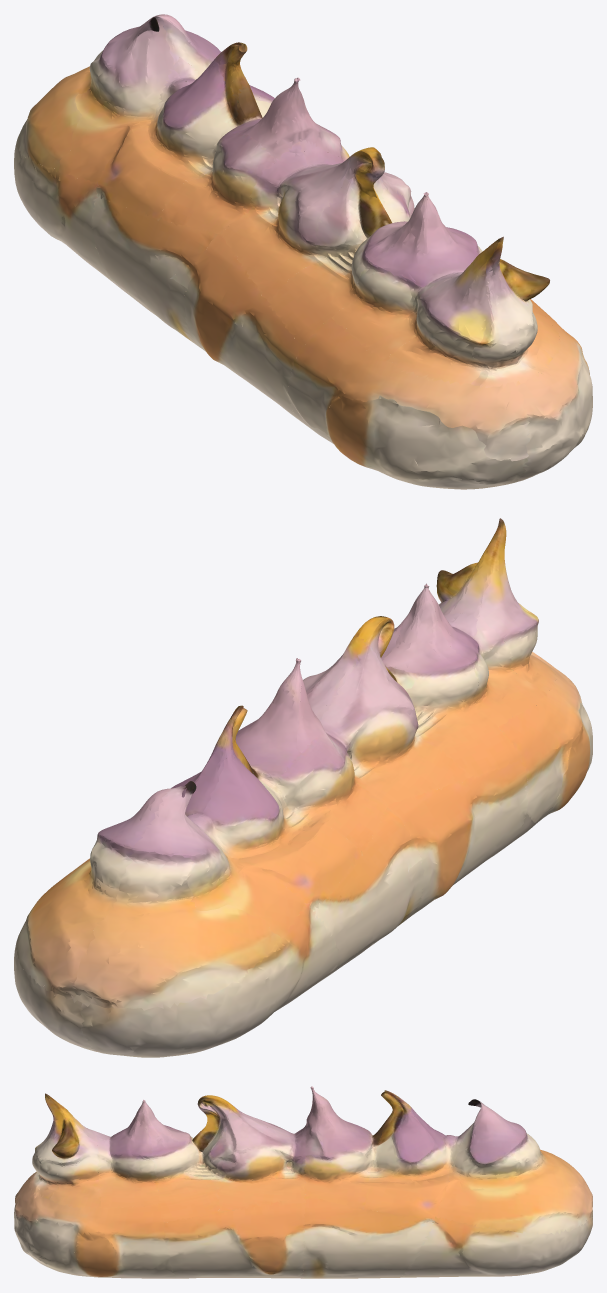
Rendered from 06_7_yellowdot_eclair5_sculpture-opt-v33.glb.
The picture shows the model from 3 angles, top to bottom: view 1: azimuth 30°, elevation 25°; view 2: azimuth 150°, elevation 25°; view 3: azimuth 270°, elevation 25°; orthographic projection. The views are drawn at different scales.
Visible parts, largest first — view 1: exlair5.001; view 2: exlair5.001; view 3: exlair5.001.
Part boxes in pixels (x1,y1,x2,y2): exlair5.001: (14,14,592,489); exlair5.001: (14,518,592,1057); exlair5.001: (14,1086,592,1278).
Bounding box in the file's own units: 0.0398 × 0.0421 × 0.125.
Materials: 1 (1 with a texture image).
